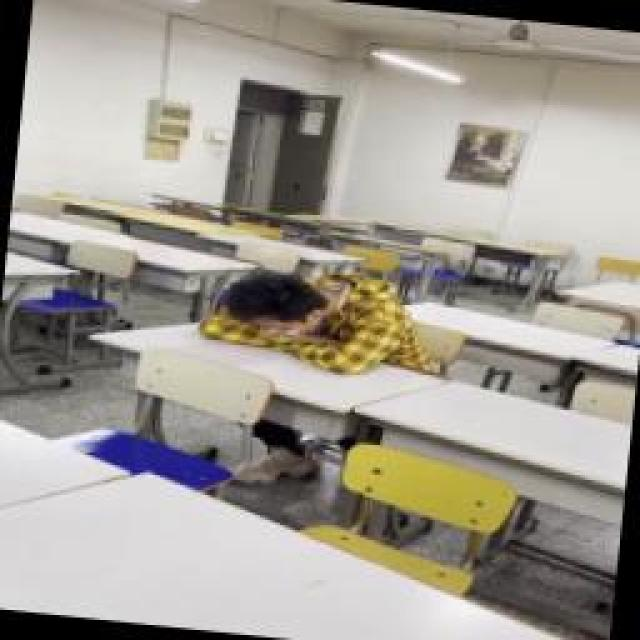sleep: (193, 255, 435, 380)
